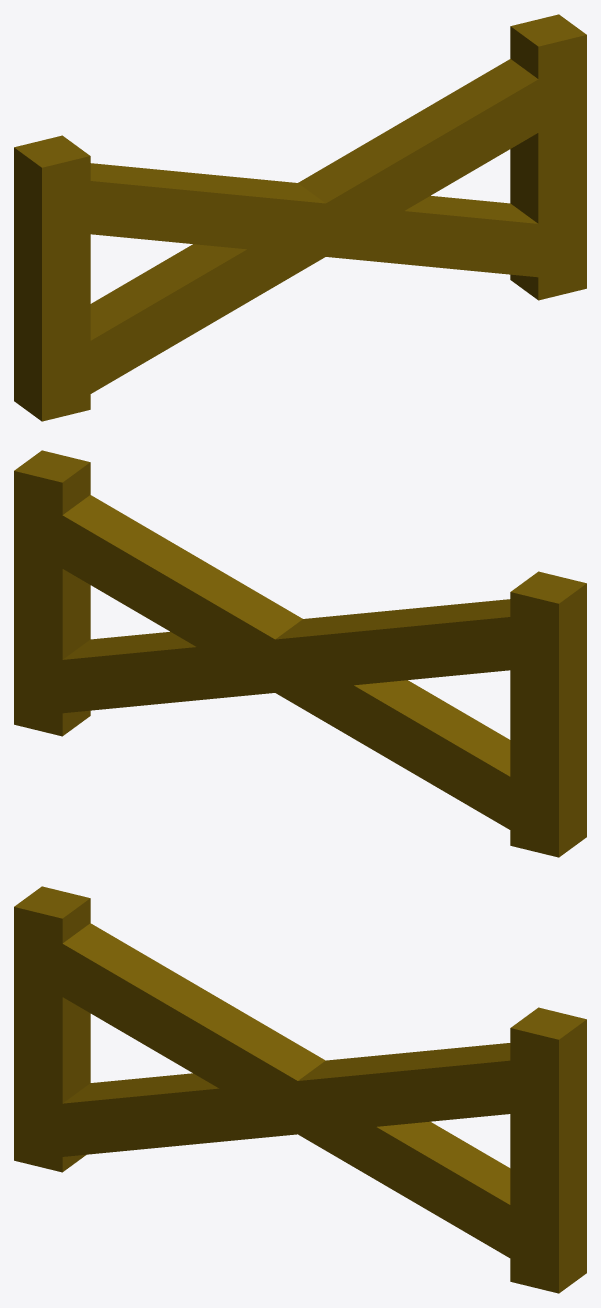
The model's file is wall3.fbx.
3 renders of one model, top to bottom at view 1: azimuth 30°, elevation 25°; view 2: azimuth 150°, elevation 25°; view 3: azimuth 330°, elevation 25°, orthographic.
Visible parts, largest first — view 1: pCube2, pCube5, pCube3, pCube4; view 2: pCube2, pCube5, pCube3, pCube4; view 3: pCube5, pCube2, pCube4, pCube3.
Boxes of the visible parts, x1,y1,x2,y2 form: pCube2: (60,59,579,402); pCube5: (61,163,578,277); pCube3: (14,135,90,421); pCube4: (510,14,586,300); pCube2: (18,495,540,838); pCube5: (18,599,540,715); pCube3: (510,571,586,857); pCube4: (14,450,90,736); pCube5: (32,923,554,1275); pCube2: (32,1043,554,1158); pCube4: (510,1007,586,1293); pCube3: (14,886,90,1172).
Bounding box in the file's own units: 11.24 × 5 × 1.
